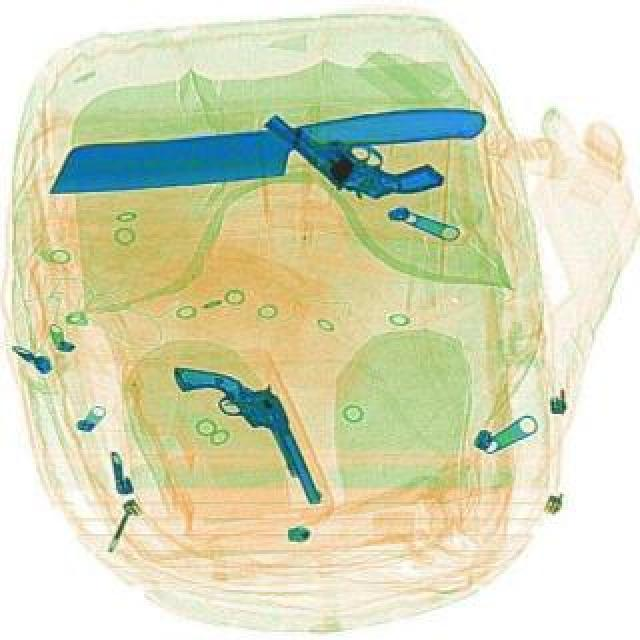gun: (260, 68, 444, 236), (168, 338, 324, 530)
knife: (44, 102, 486, 194)
